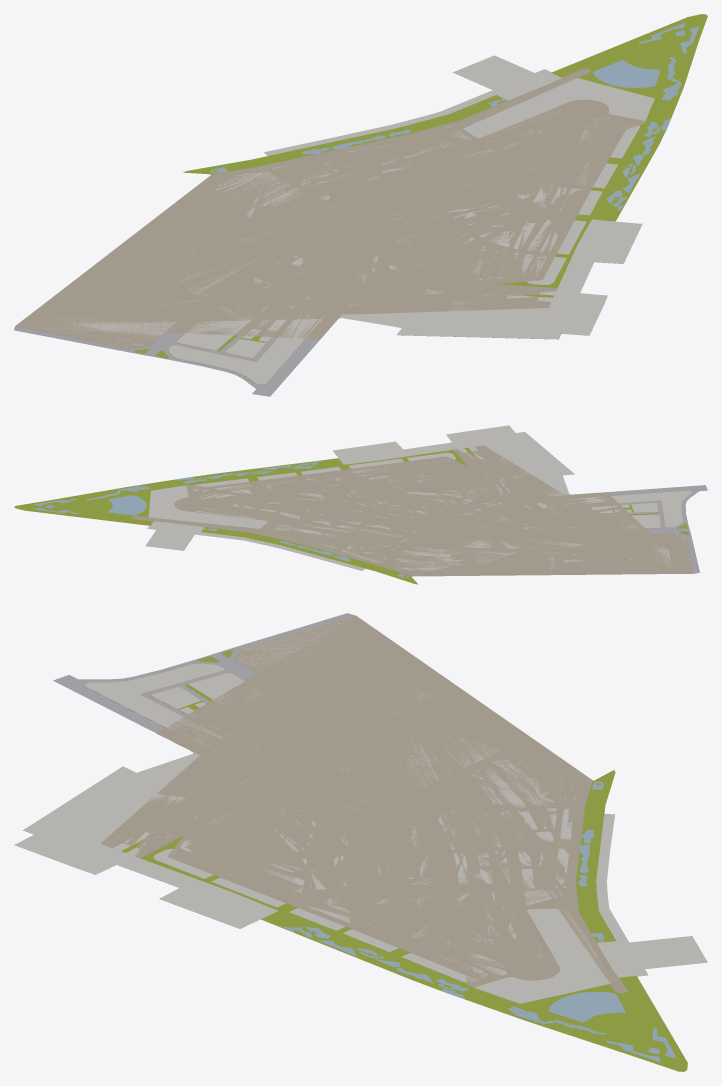
The model's file is 20220326_SGP_Interactive_0.fbx.
The picture shows the model from 3 angles, top to bottom: view 1: azimuth 30°, elevation 25°; view 2: azimuth 150°, elevation 25°; view 3: azimuth 270°, elevation 25°; orthographic projection. The views are drawn at different scales.
Visible parts, largest first — view 1: CityEngineMaterial_4_m, CityEngineMaterial_m, CityEngineMaterial_1_m, CityEngineMaterial_2_m, CityEngineMaterial_3_m; view 2: CityEngineMaterial_4_m, CityEngineMaterial_m, CityEngineMaterial_1_m, CityEngineMaterial_2_m, CityEngineMaterial_3_m; view 3: CityEngineMaterial_4_m, CityEngineMaterial_m, CityEngineMaterial_1_m, CityEngineMaterial_2_m, CityEngineMaterial_3_m.
Part boxes in pixels (<box>): CityEngineMaterial_4_m: <box>16,68,645,384</box>; CityEngineMaterial_m: <box>33,55,654,384</box>; CityEngineMaterial_1_m: <box>135,14,707,358</box>; CityEngineMaterial_2_m: <box>210,22,698,211</box>; CityEngineMaterial_3_m: <box>14,326,319,396</box>; CityEngineMaterial_4_m: <box>132,445,693,576</box>; CityEngineMaterial_m: <box>145,425,692,570</box>; CityEngineMaterial_1_m: <box>14,447,688,584</box>; CityEngineMaterial_2_m: <box>33,460,408,577</box>; CityEngineMaterial_3_m: <box>607,485,707,573</box>; CityEngineMaterial_4_m: <box>83,616,627,993</box>; CityEngineMaterial_m: <box>14,620,707,1003</box>; CityEngineMaterial_1_m: <box>121,650,687,1071</box>; CityEngineMaterial_2_m: <box>281,781,676,1061</box>; CityEngineMaterial_3_m: <box>53,613,356,732</box>.
Size of the model in its own units: 2007 by 0.15 by 1283.
